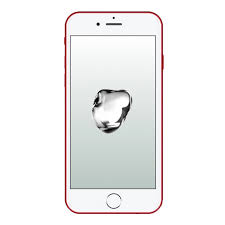iphone: (63, 10, 167, 218)
iphone7: (60, 8, 164, 216)
